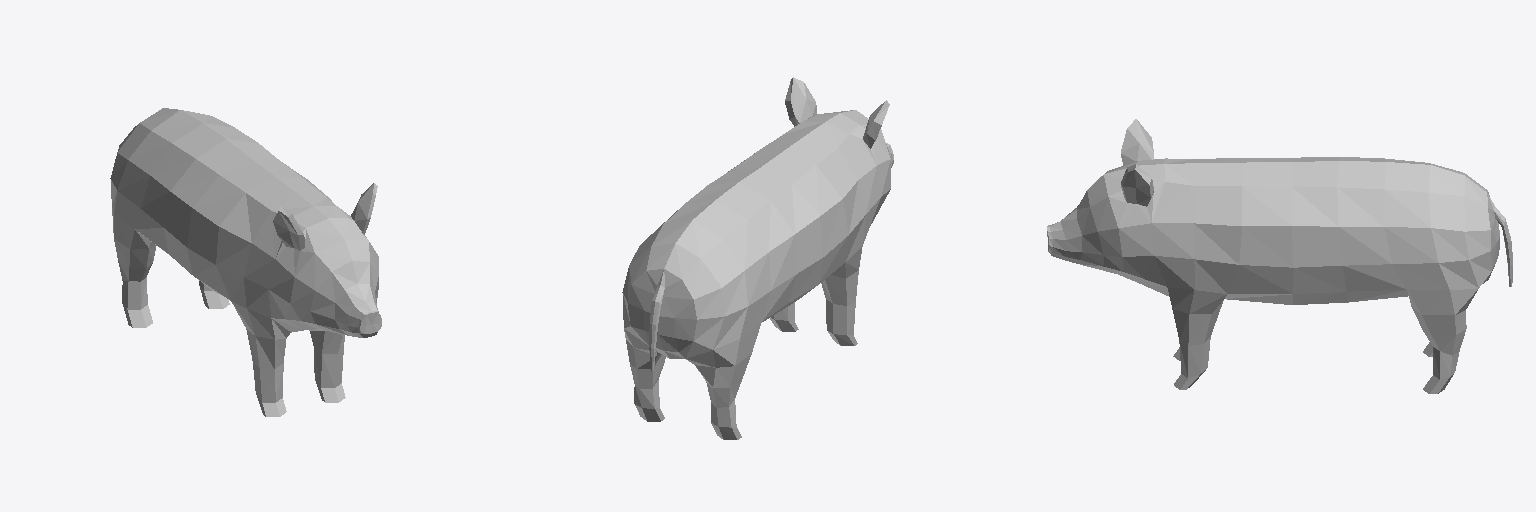
The model's file is pig.obj.
3 renders of one model, left to right at view 1: azimuth 30°, elevation 25°; view 2: azimuth 150°, elevation 25°; view 3: azimuth 270°, elevation 25°, orthographic.
Visible parts, largest first — view 1: Pig_Mesh; view 2: Pig_Mesh; view 3: Pig_Mesh.
Boxes of the visible parts, <box> form: Pig_Mesh: <box>110,108,381,416</box>; Pig_Mesh: <box>622,77,893,439</box>; Pig_Mesh: <box>1047,119,1512,393</box>.
Size of the model in its own units: 2.33 by 4.1 by 7.56.